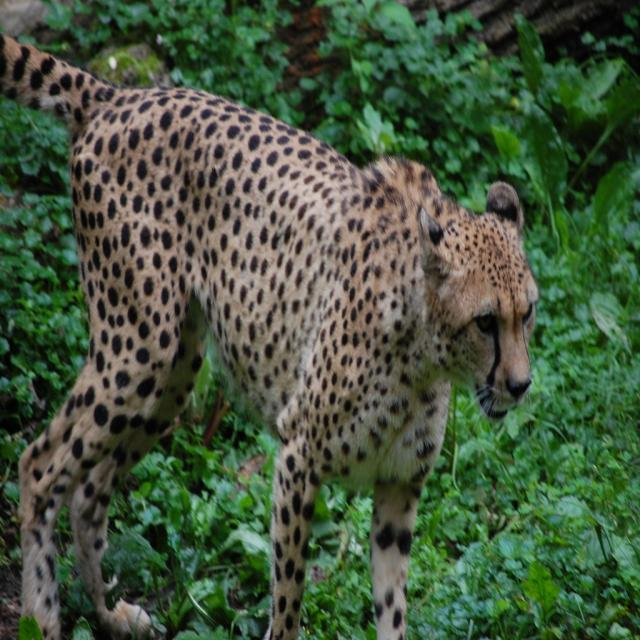Cheetah: (0, 33, 541, 640)
